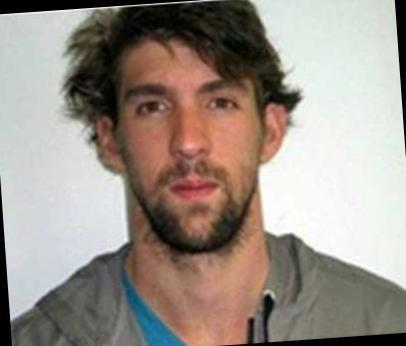Drunk: (124, 42, 259, 249)
